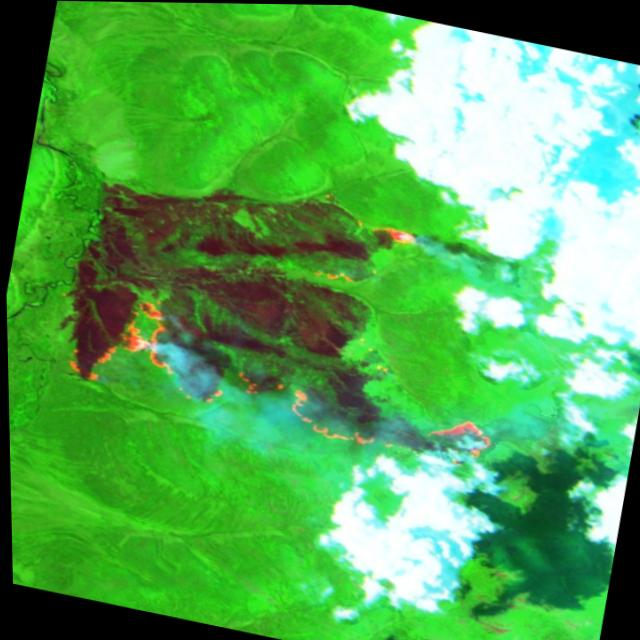fire: (45, 285, 280, 419), (268, 375, 505, 480), (296, 208, 437, 304)
